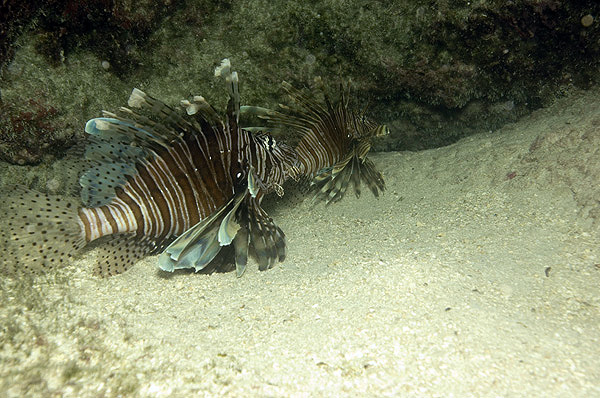Pterois_volitans: (60, 62, 435, 297)
